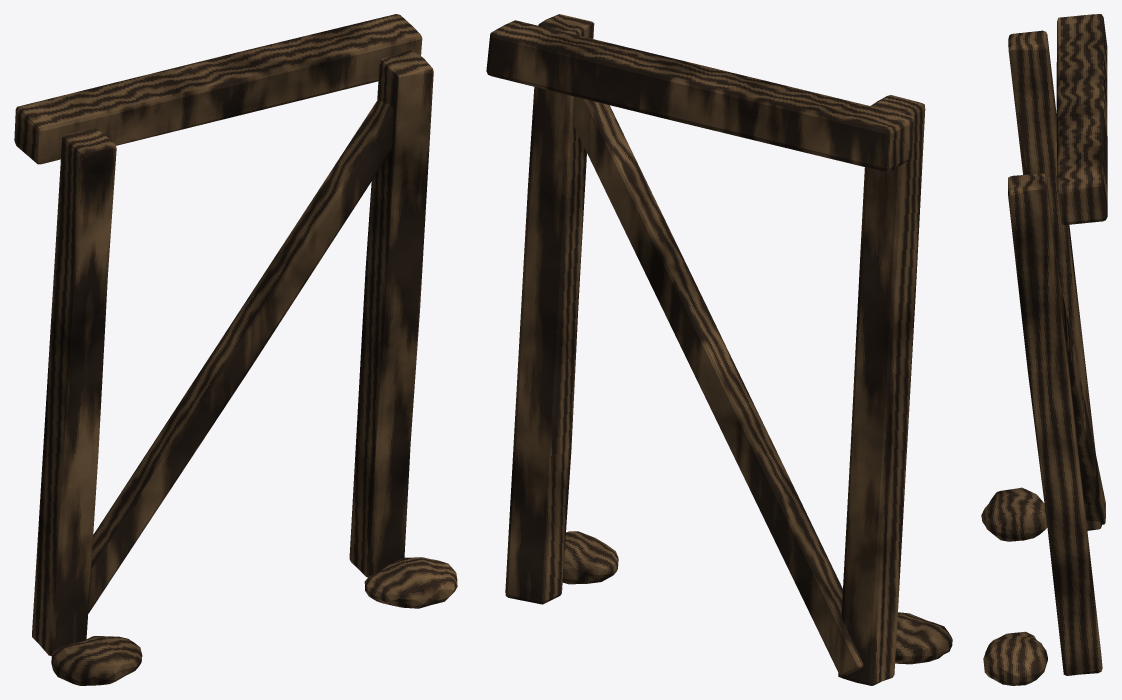
File: mine_brace.glb
3 views of the same model, side by side, from view 1: azimuth 30°, elevation 25°; view 2: azimuth 150°, elevation 25°; view 3: azimuth 270°, elevation 25° (orthographic). The views are drawn at different scales.
Parts seen in each view (by area): view 1: mine_brace; view 2: mine_brace; view 3: mine_brace.
Part boxes in pixels (x1=…): mine_brace: x1=14, y1=14, x2=457, y2=685; mine_brace: x1=486, y1=14, x2=952, y2=685; mine_brace: x1=981, y1=14, x2=1107, y2=685.
Size of the model in its own units: 1.82 by 2.35 by 0.5387.
1 material, 1 textured.
